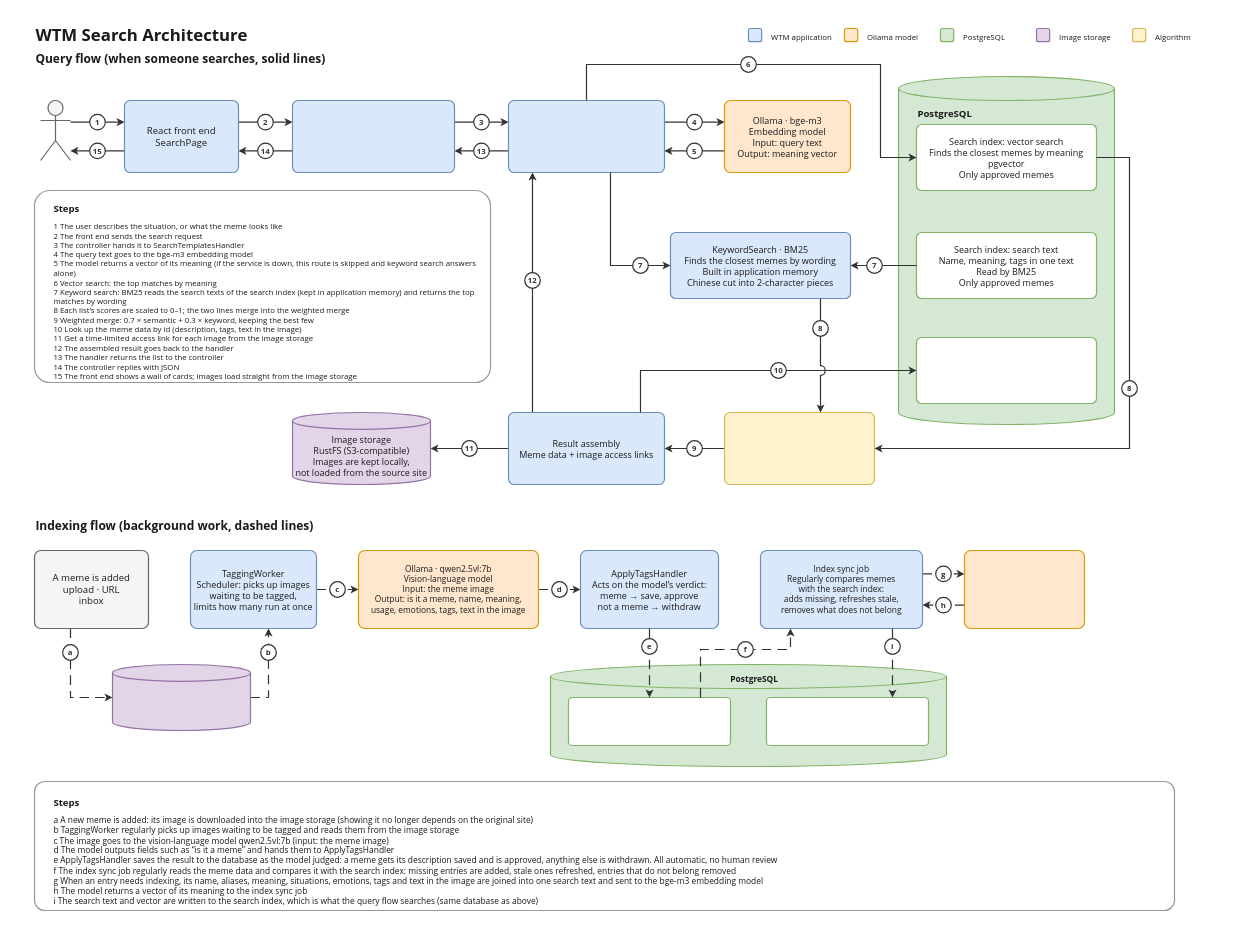
The diagram is 1236 pixels wide and 944 high, and some of its shapes have lost their labels. Each missing label, with the centre of its shape:
Image storage RustFS (S3-compatible) (same storage as above): (x=181, y=697)
Meme data Description, tags, status: (x=649, y=721)
Meme data Description, tags, text in the image, status (approved / withdrawn): (x=1006, y=370)
Ollama · bge-m3 Embedding model Input: search text Output: meaning vector: (x=1024, y=589)
Search index Search text + vector: (x=847, y=721)
SearchTemplatesHandler Hybrid search coordinator: (x=586, y=136)
Spring Boot SearchController: (x=373, y=136)
User: (x=55, y=130)
Weighted merge 0.7 semantic + 0.3 keyword Scores scaled to 0–1 first: (x=799, y=448)
